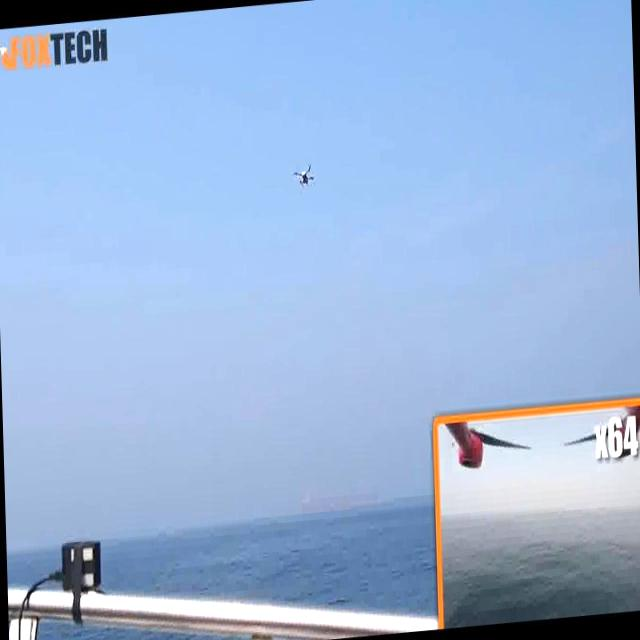drone: (291, 160, 318, 191)
